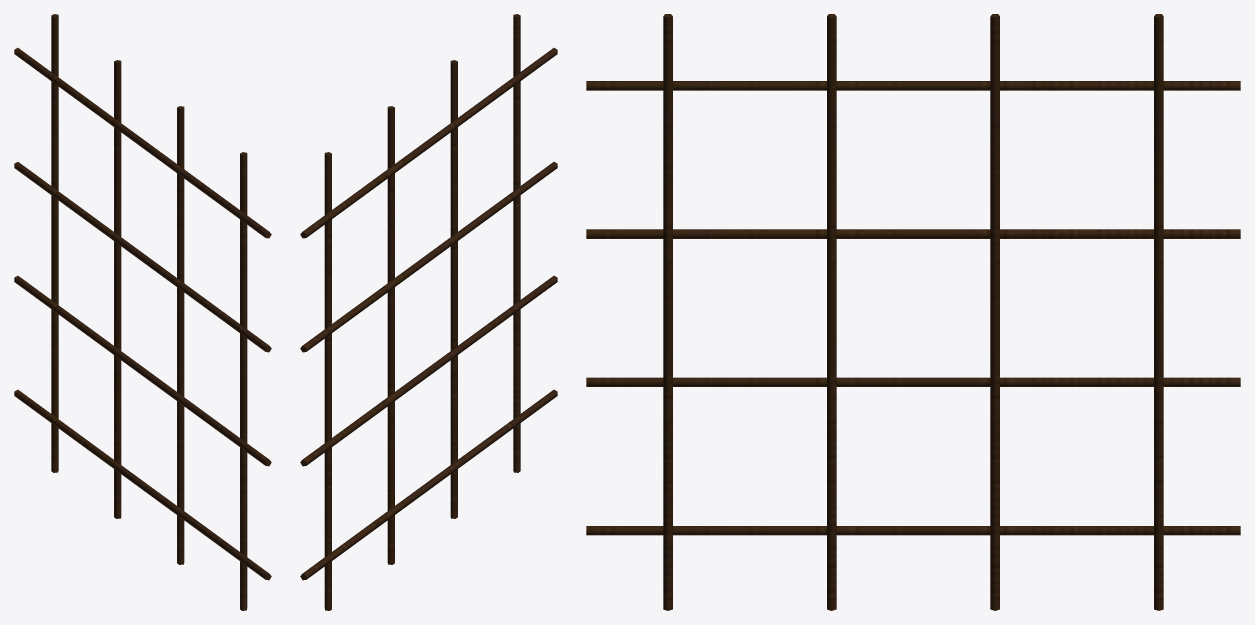
3 renders of one model, left to right at view 1: azimuth 30°, elevation 25°; view 2: azimuth 150°, elevation 25°; view 3: azimuth 270°, elevation 25°, orthographic. The views are drawn at different scales.
Parts seen in each view (by area): view 1: body0_model0_lod0_mesh0; view 2: body0_model0_lod0_mesh0; view 3: body0_model0_lod0_mesh0.
Part boxes in pixels (box(x1,y1,x2,y2)): body0_model0_lod0_mesh0: box(14, 14, 271, 610); body0_model0_lod0_mesh0: box(300, 14, 557, 610); body0_model0_lod0_mesh0: box(586, 14, 1240, 610).
Bounding box in the file's own units: 1.91 × 64 × 64.
Materials: 1 (1 with a texture image).
